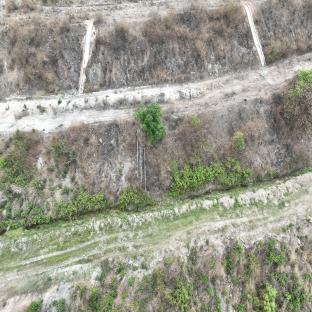slope_drain: (244, 2, 268, 69), (78, 21, 94, 94), (136, 115, 149, 200)
toe_drain: (0, 166, 312, 240)
vegetation: (168, 160, 248, 194), (134, 99, 162, 144)
